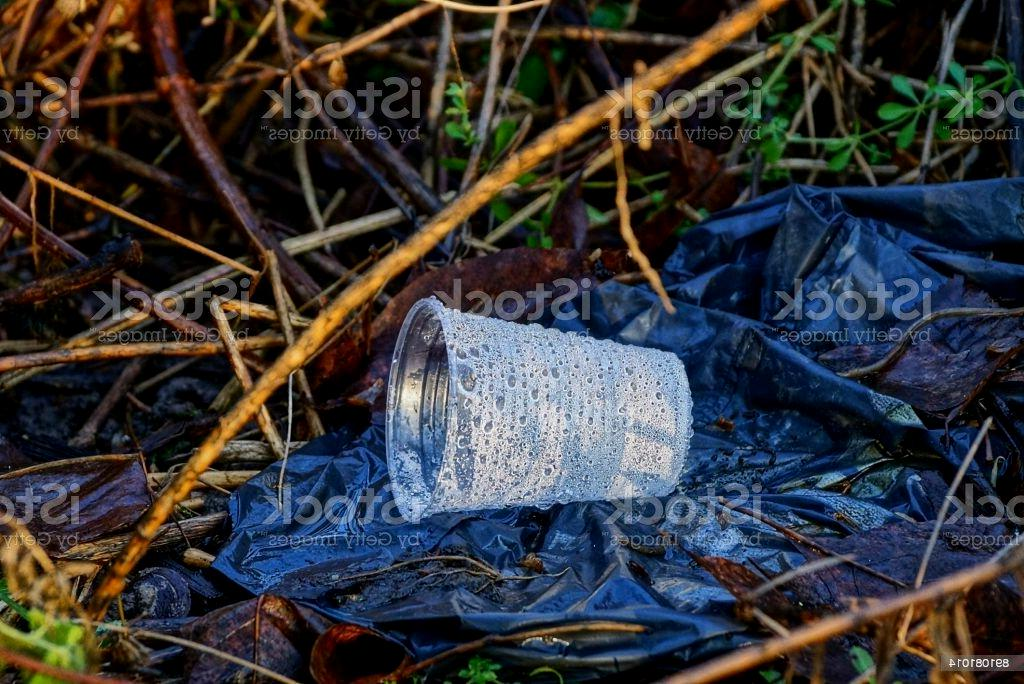garbage: (386, 296, 694, 526)
